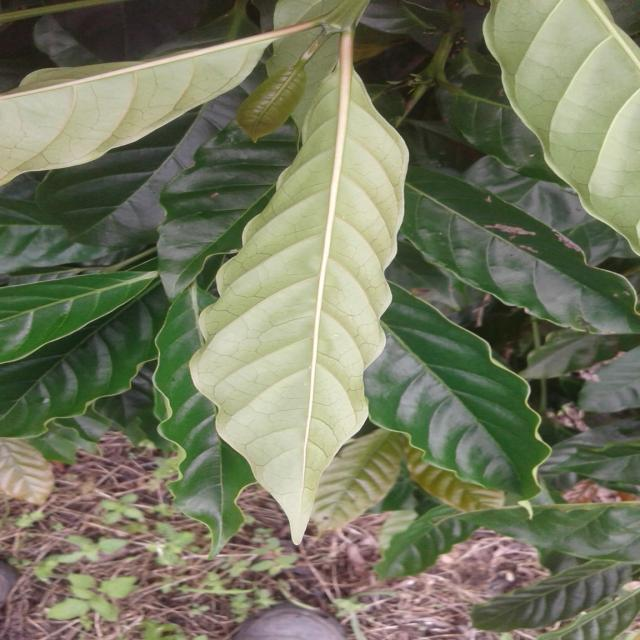Sanas: (187, 37, 410, 544)
